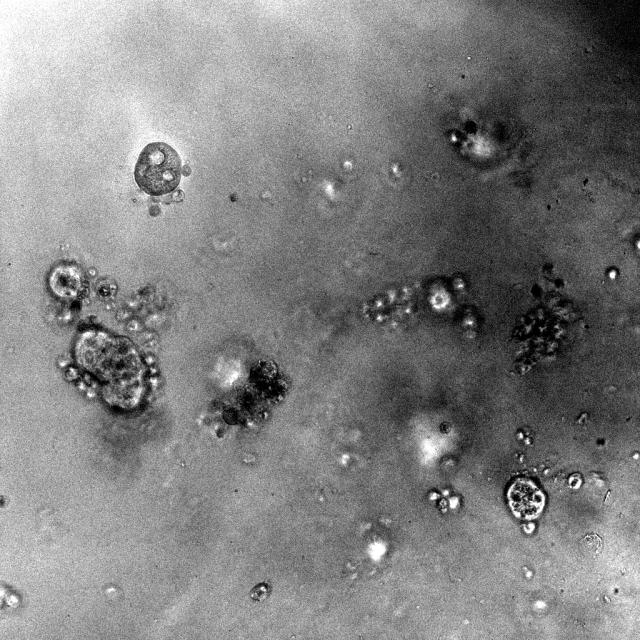organoid: (44, 255, 172, 416), (361, 274, 481, 339), (511, 262, 578, 374), (199, 361, 288, 438), (134, 141, 191, 216), (504, 475, 547, 535), (427, 487, 461, 514), (0, 581, 22, 613), (250, 582, 271, 601), (516, 426, 534, 446), (568, 472, 583, 489), (440, 421, 452, 433)
